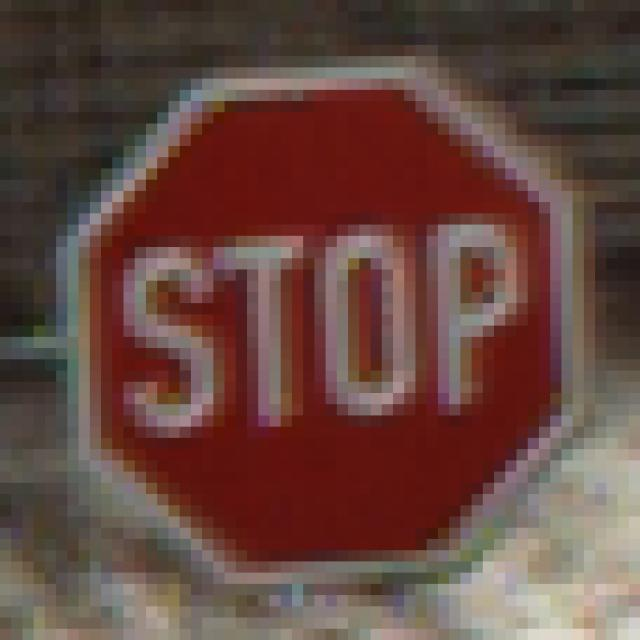STOP: (57, 57, 585, 585)
